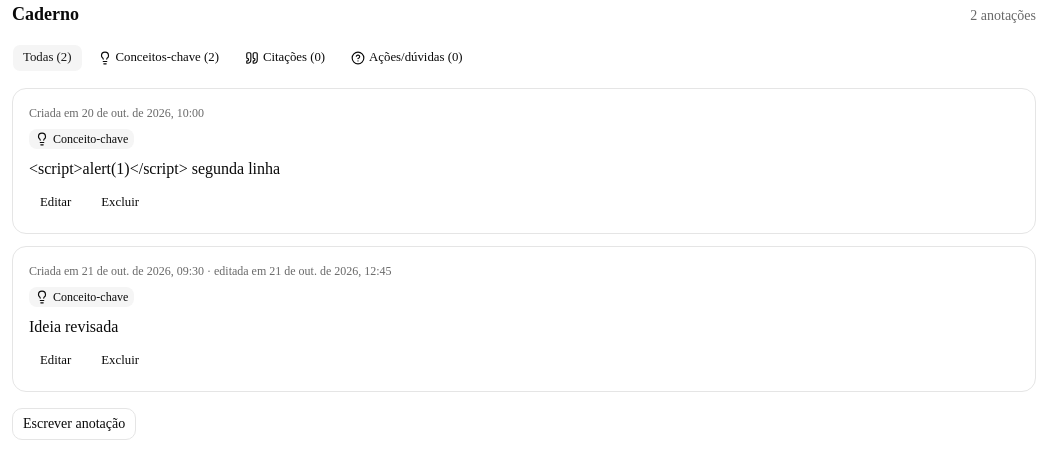
it: Notebook › says when no note has the chosen kind
Click the button "Citações (0)" at (285, 58), box [234,44,336,72]
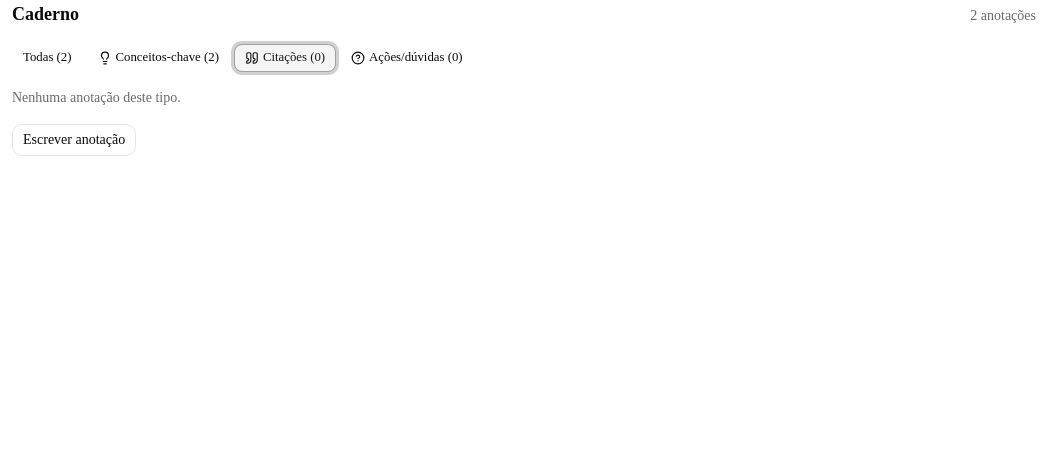
Check: the text "Nenhuma anotação deste tipo." is shown, box [12,90,181,105]
Check: the list is gone
